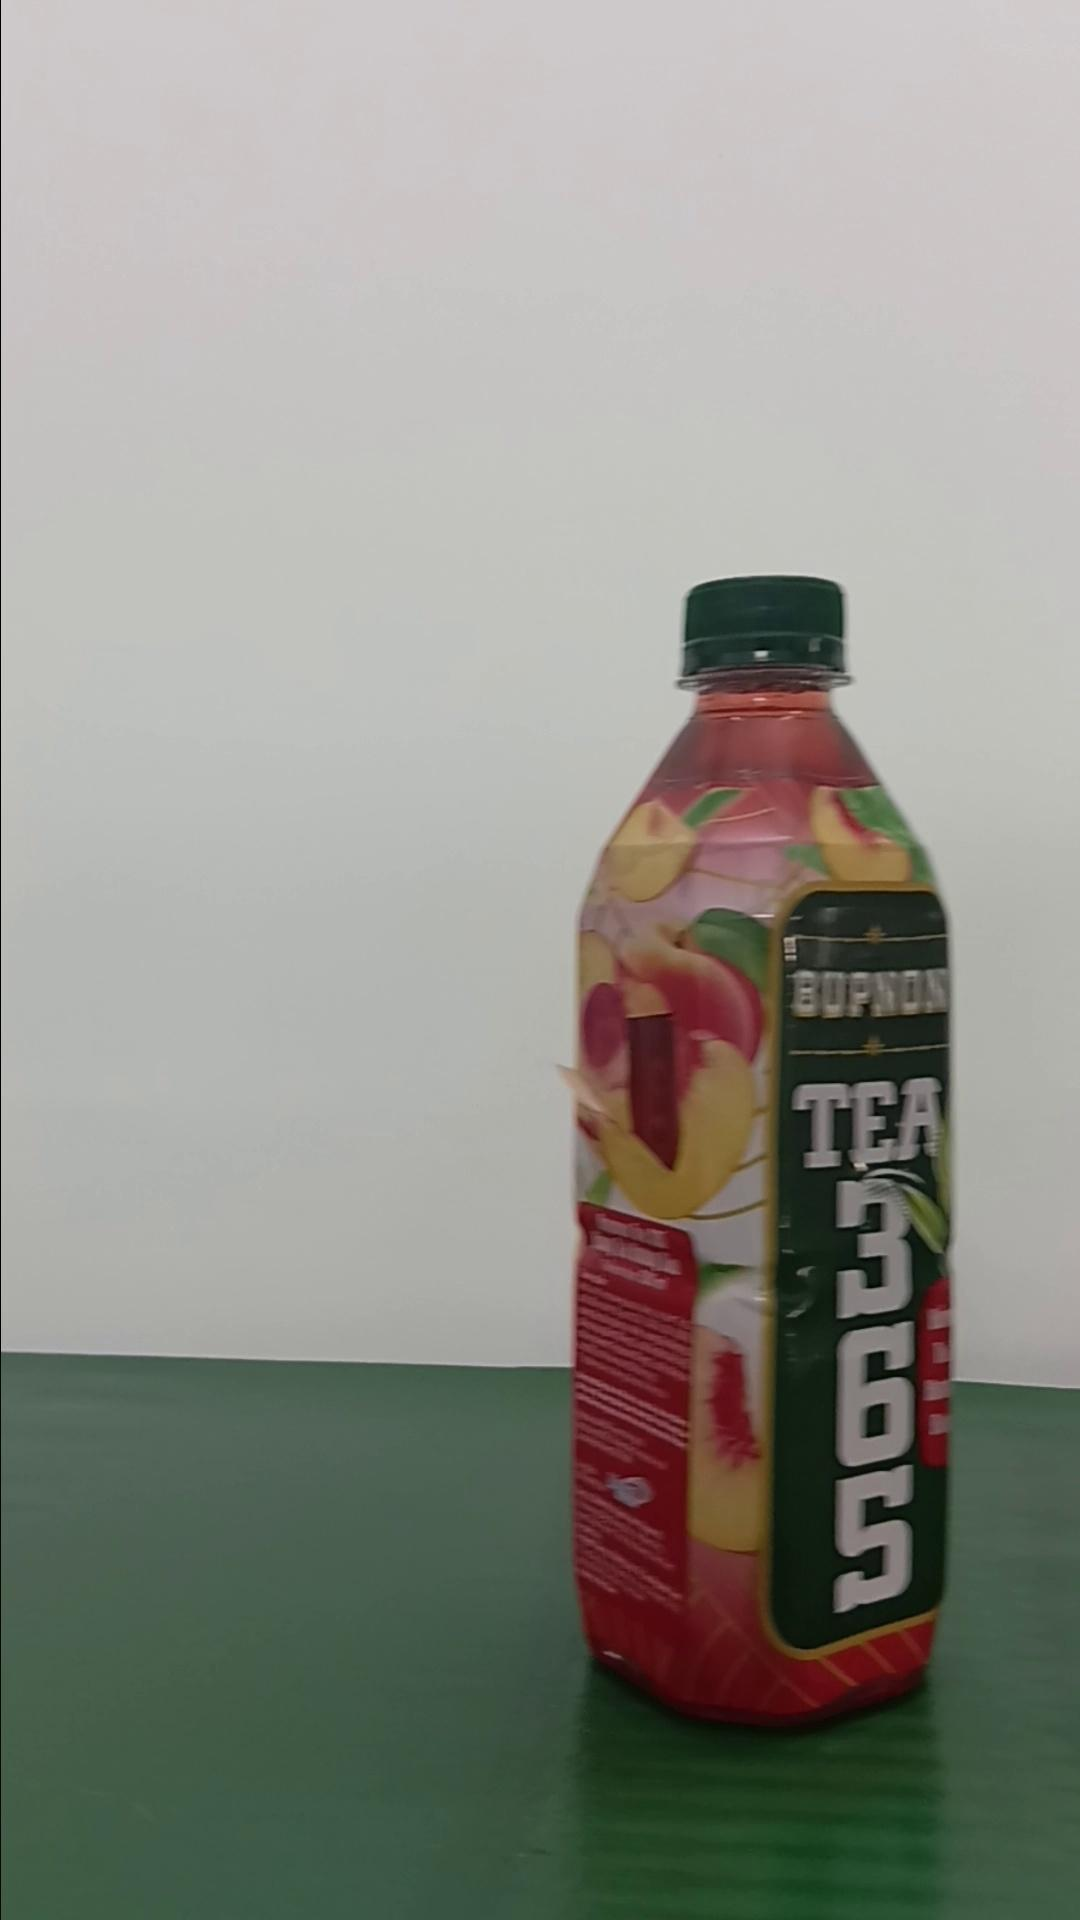loi rach va lap chai: (567, 571, 957, 1714)
